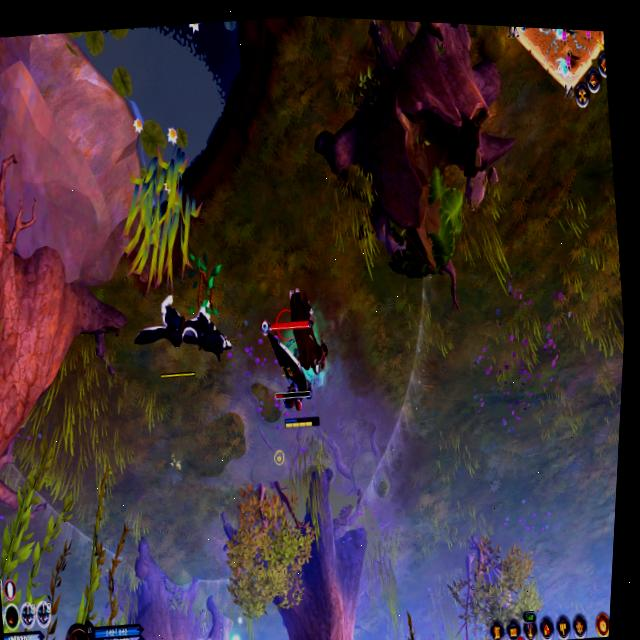ore: (252, 279, 335, 408)
red: (271, 334, 331, 439)
wisp caged: (194, 606, 245, 640)
